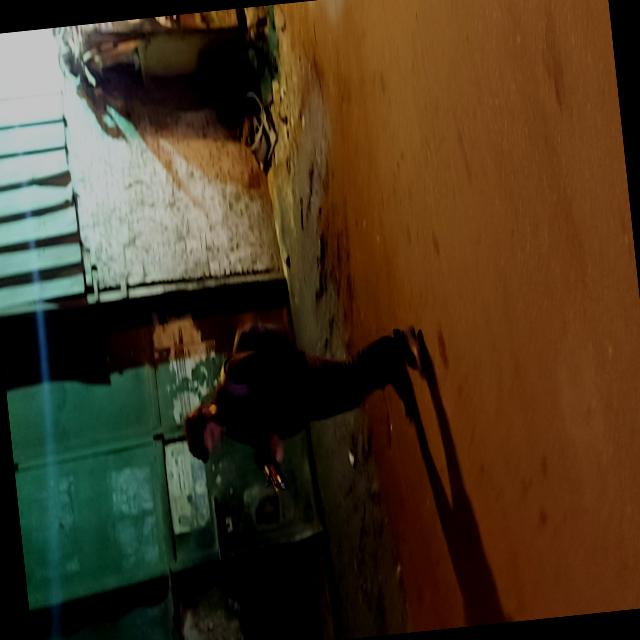long weapon: (242, 408, 299, 504)
